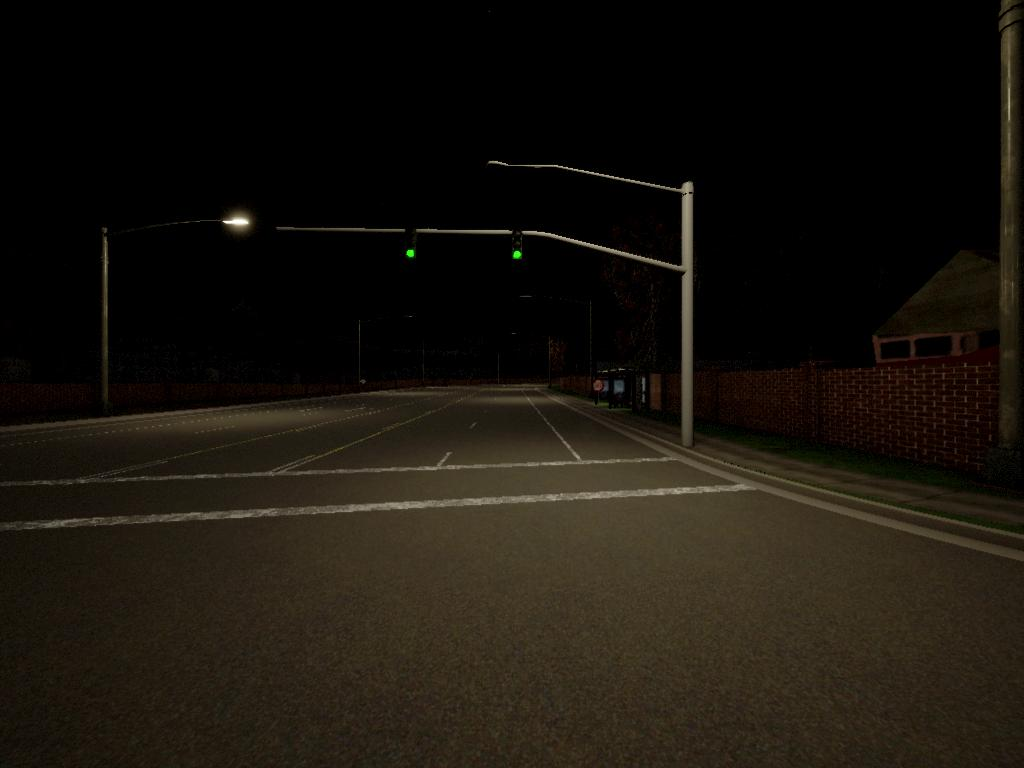traffic_light: (404, 231, 422, 269), (511, 237, 531, 271)
